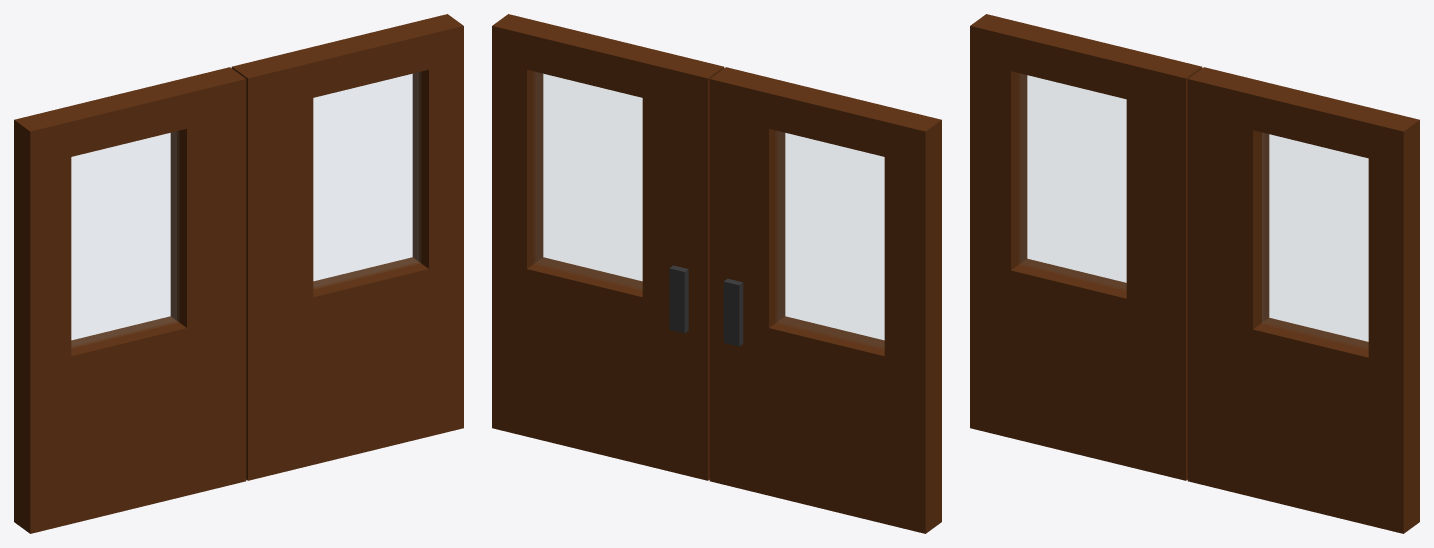
Rendered from OF_Door.fbx.
3 views of the same model, side by side, from view 1: azimuth 30°, elevation 25°; view 2: azimuth 150°, elevation 25°; view 3: azimuth 330°, elevation 25° (orthographic).
Visible parts, largest first — view 1: Puerta; view 2: Puerta; view 3: Puerta.
Part boxes in pixels (x1,y1,x2,y2): Puerta: (14,14,463,533); Puerta: (492,14,941,533); Puerta: (970,14,1419,533).
Size of the model in its own units: 244 by 217 by 19.76.
